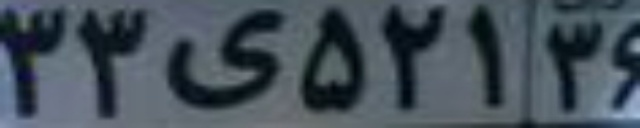1: (464, 3, 503, 107)
2: (384, 4, 442, 110)
3: (77, 6, 148, 118), (0, 6, 67, 120), (541, 19, 601, 111)
5: (296, 8, 367, 111)
6: (608, 20, 639, 113)
ye: (159, 9, 285, 109)
